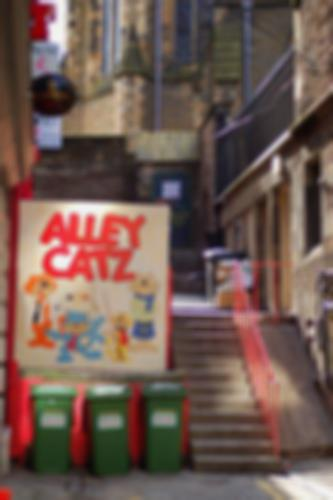Bote de Basura: (136, 384, 189, 472), (85, 383, 136, 473), (34, 386, 72, 477)
